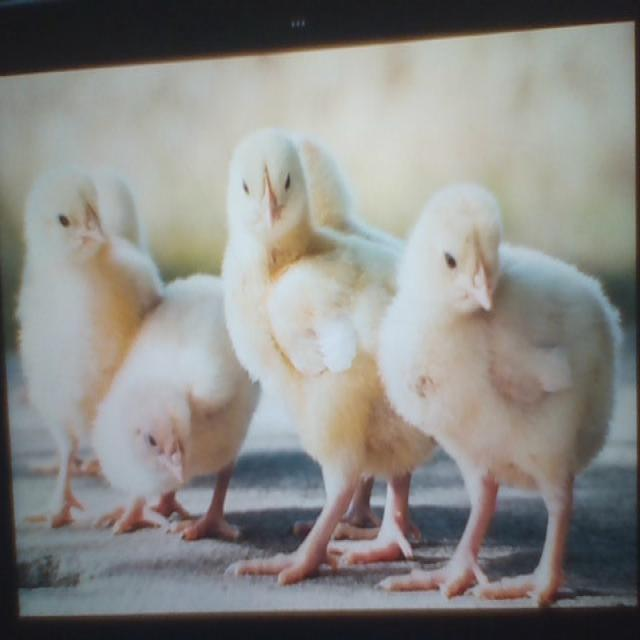Healthy: (384, 186, 615, 598), (225, 132, 416, 572), (20, 170, 128, 405)
Sick: (98, 267, 243, 544)
